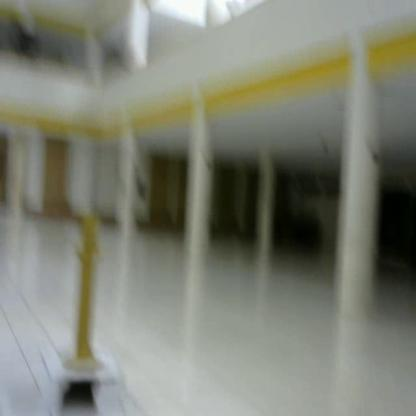pole: (63, 213, 119, 377)
